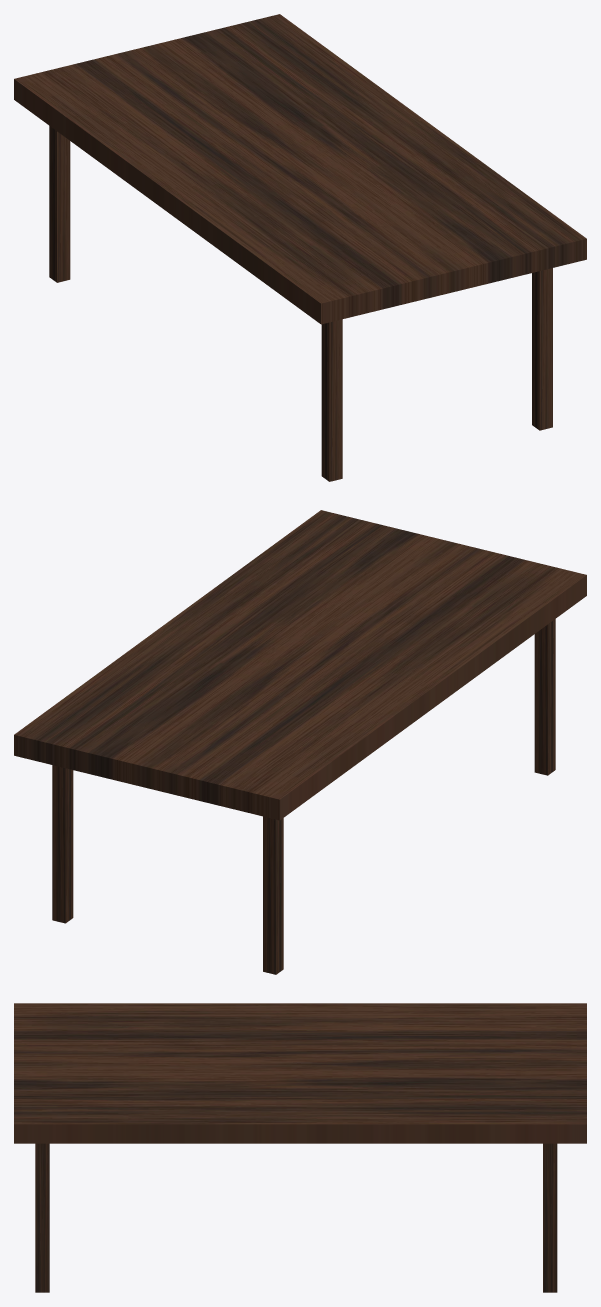
The model's file is table.obj.
3 views of the same model, one above another, from view 1: azimuth 30°, elevation 25°; view 2: azimuth 150°, elevation 25°; view 3: azimuth 270°, elevation 25° (orthographic). The views are drawn at different scales.
Parts seen in each view (by area): view 1: pCube1, pCube2, pasted__pCube2 group1, pasted__pasted__pasted__pCube2 pasted__pasted__group1 pasted__gr; view 2: pCube1, pasted__pasted__pCube2 pasted__group1 group2, pasted__pasted__pasted__pCube2 pasted__pasted__group1 pasted__gr, pCube2; view 3: pCube1, pasted__pCube2 group1, pasted__pasted__pCube2 pasted__group1 group2.
Boxes of the visible parts, left/top/right/bottom form: pCube1: left=14, top=14, right=586, bottom=324; pCube2: left=321, top=319, right=342, bottom=481; pasted__pCube2 group1: left=532, top=268, right=552, bottom=430; pasted__pasted__pasted__pCube2 pasted__pasted__group1 pasted__gr: left=49, top=126, right=70, bottom=282; pCube1: left=14, top=510, right=586, bottom=820; pasted__pasted__pCube2 pasted__group1 group2: left=52, top=765, right=73, bottom=923; pasted__pasted__pasted__pCube2 pasted__pasted__group1 pasted__gr: left=263, top=816, right=283, bottom=974; pCube2: left=534, top=619, right=555, bottom=775; pCube1: left=14, top=1003, right=586, bottom=1143; pasted__pCube2 group1: left=35, top=1143, right=49, bottom=1292; pasted__pasted__pCube2 pasted__group1 group2: left=543, top=1143, right=557, bottom=1292.
Size of the model in its own units: 2 by 1.38 by 4.
Materials: 2 (1 with a texture image).
